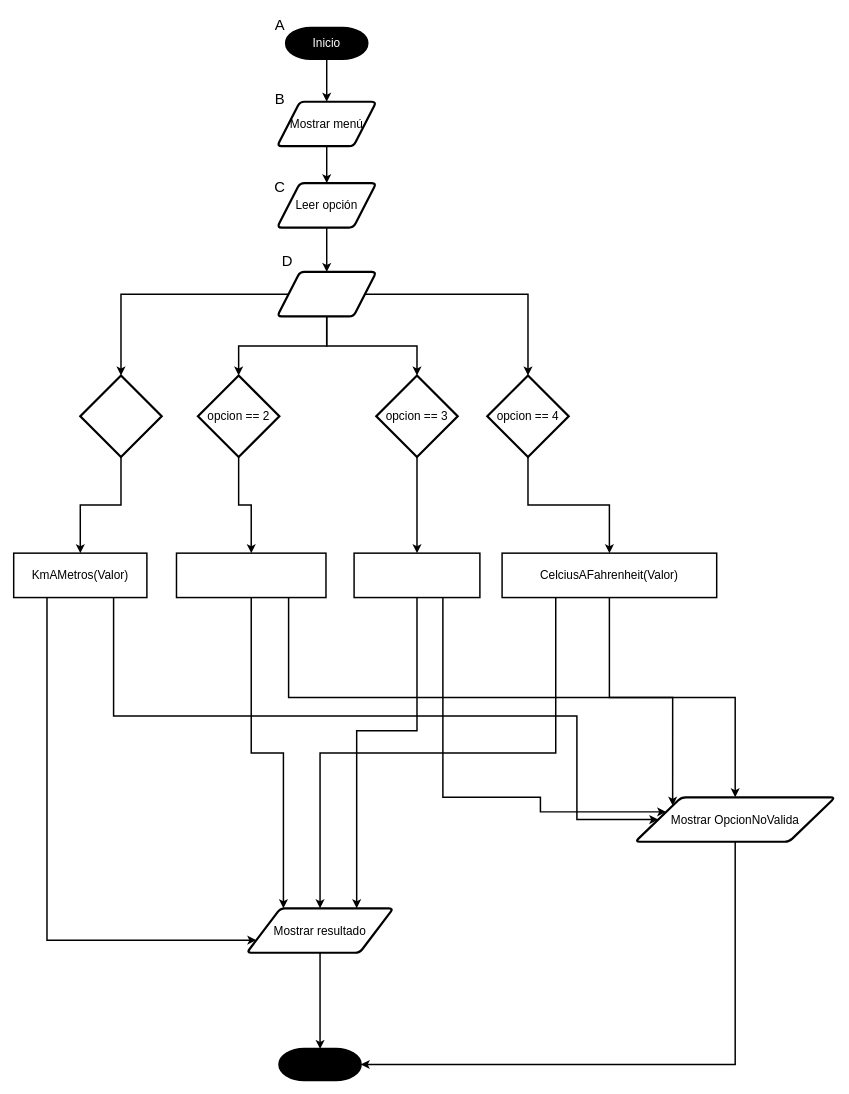
Image size: 849x1094. Some labels were removed from this diagram. The shapes that lost their labels are listed below. From the top down, each one's centre as x and y in pixels, then its label:
the point at 326,293: Leer valor
the point at 120,416: opcion == 1
the point at 250,575: MetrosACentimetros(Valor)
the point at 416,575: HorasAMinutos(Valor)
the point at 319,1064: Fin
